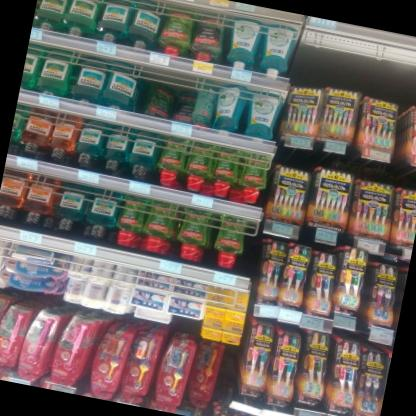empty_space: (327, 30, 370, 94), (294, 27, 337, 88), (366, 47, 410, 100), (149, 69, 199, 93), (405, 52, 416, 108)
